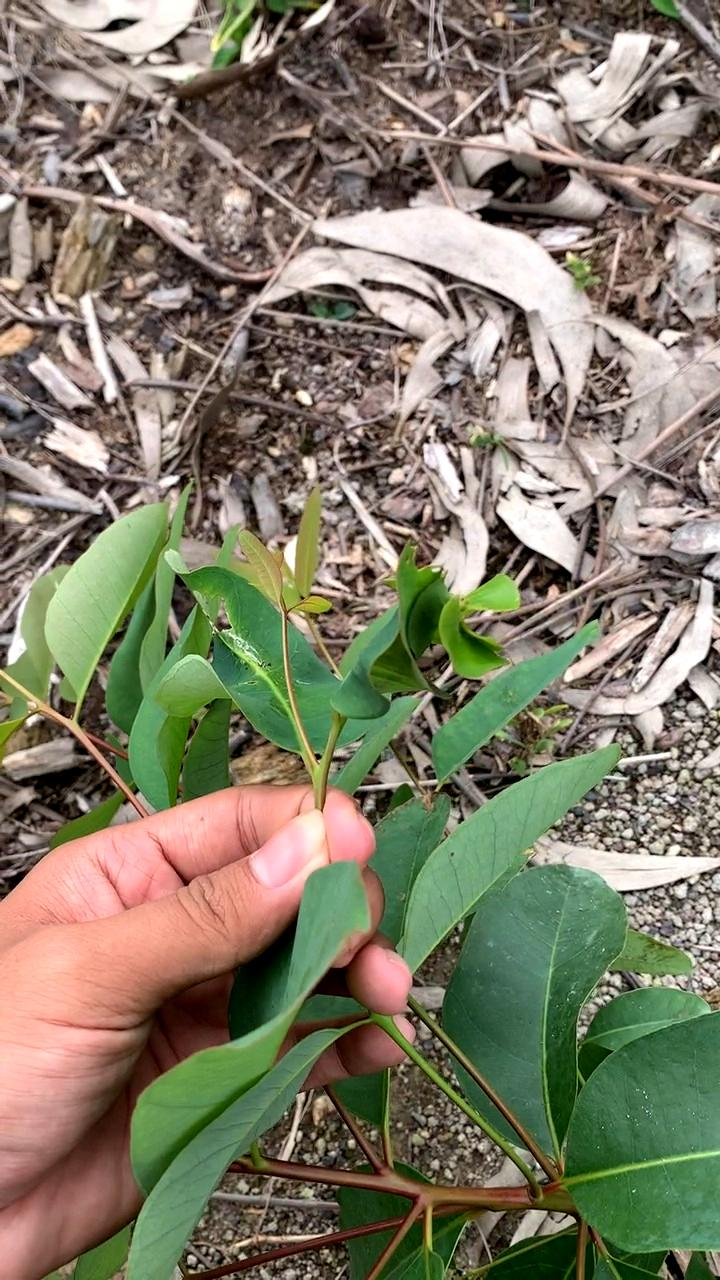Leaf Roller - Leaf: (311, 533, 536, 758)
